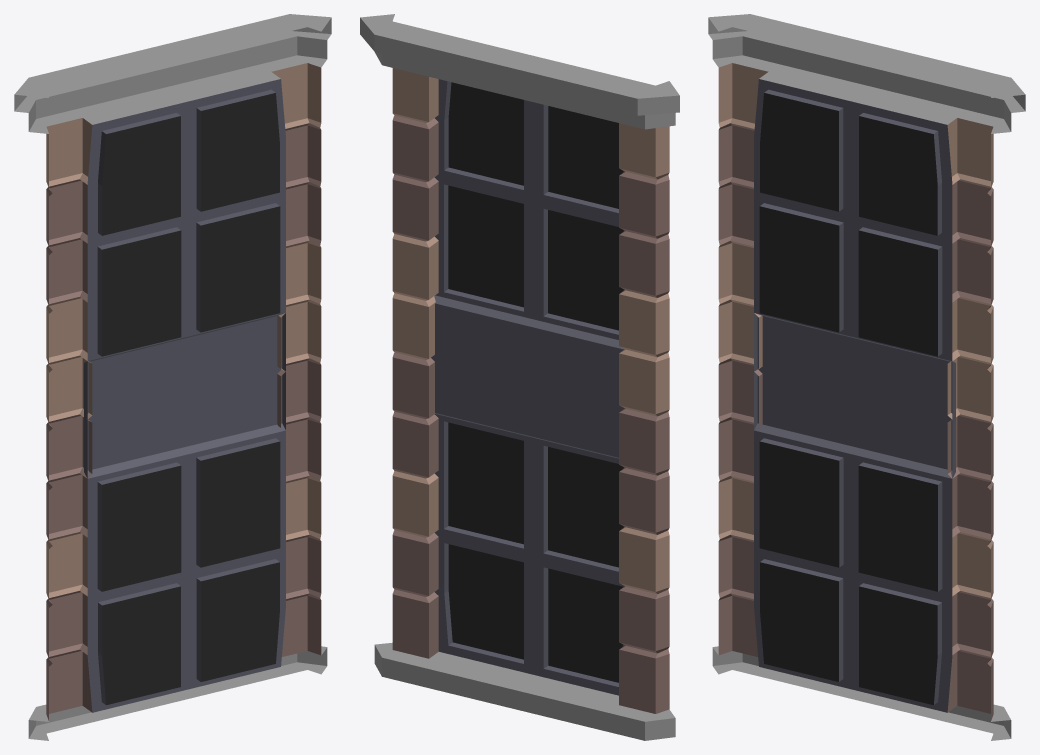
File: facade_c.gltf
3 views of the same model, side by side, from view 1: azimuth 30°, elevation 25°; view 2: azimuth 150°, elevation 25°; view 3: azimuth 330°, elevation 25° (orthographic).
Parts seen in each view (by area): view 1: Cube.006; view 2: Cube.006; view 3: Cube.006.
Boxes of the visible parts, left/top/right/bottom form: Cube.006: left=14, top=14, right=331, bottom=740; Cube.006: left=360, top=14, right=679, bottom=740; Cube.006: left=708, top=14, right=1025, bottom=740.
Size of the model in its own units: 4.1 by 7.93 by 0.7137.
